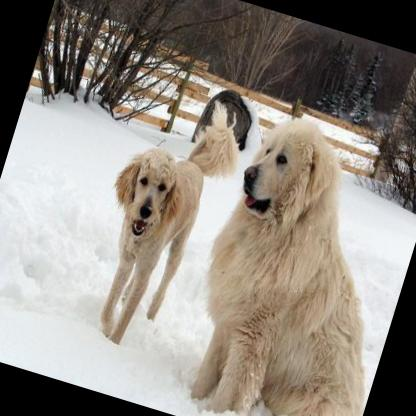Great_Pyrenees: (162, 101, 416, 416), (66, 74, 257, 364)
